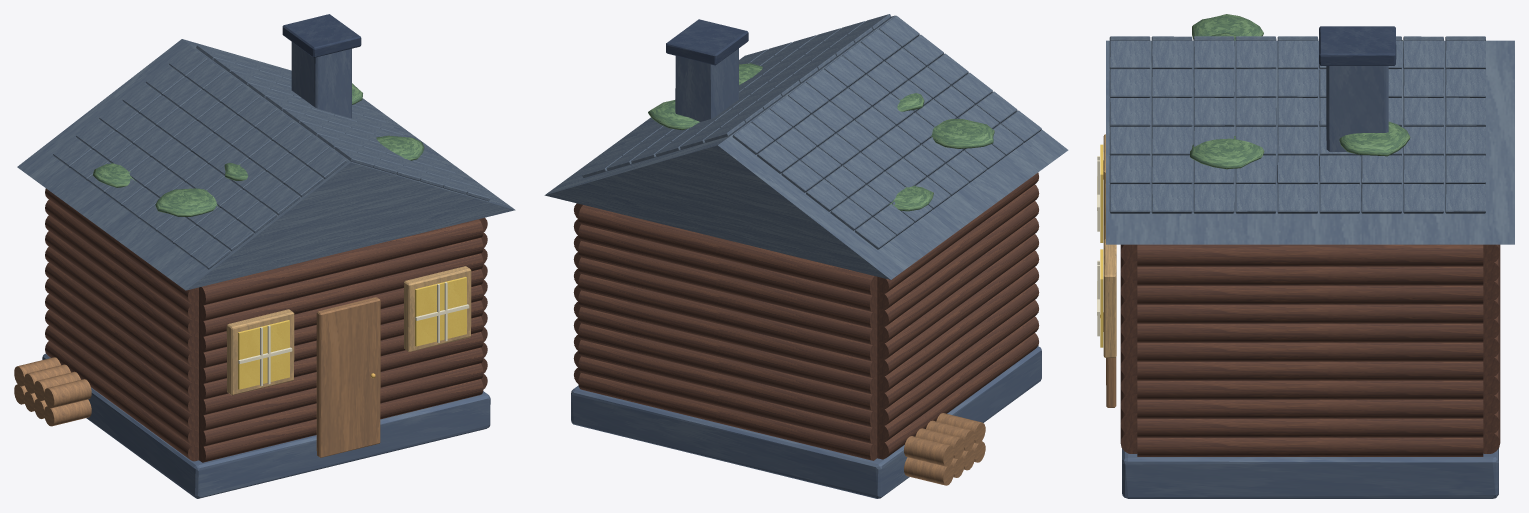
File: cabin.glb
3 views of the same model, side by side, from view 1: azimuth 30°, elevation 25°; view 2: azimuth 150°, elevation 25°; view 3: azimuth 270°, elevation 25° (orthographic). The views are drawn at different scales.
Visible parts, largest first — view 1: cabin; view 2: cabin; view 3: cabin.
Boxes of the visible parts, bbox=[...] form: cabin: bbox=[14, 14, 515, 498]; cabin: bbox=[544, 14, 1068, 498]; cabin: bbox=[1097, 14, 1514, 498].
Size of the model in its own units: 4.75 by 4.39 by 3.98.
1 material, 1 textured.
